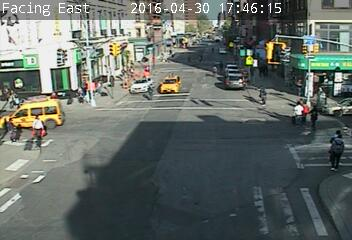neg: (267, 132, 297, 173), (69, 162, 98, 200), (226, 73, 247, 100), (179, 90, 197, 114), (113, 78, 130, 102), (3, 14, 20, 36), (49, 44, 65, 66), (18, 46, 32, 65), (67, 22, 80, 40), (104, 39, 117, 56), (7, 75, 19, 92), (145, 50, 157, 66), (70, 61, 81, 77), (96, 58, 107, 73)
pos: (322, 129, 351, 173), (26, 114, 51, 146), (306, 104, 326, 129), (292, 102, 309, 125), (2, 117, 19, 139), (73, 86, 87, 105), (210, 63, 221, 78)
